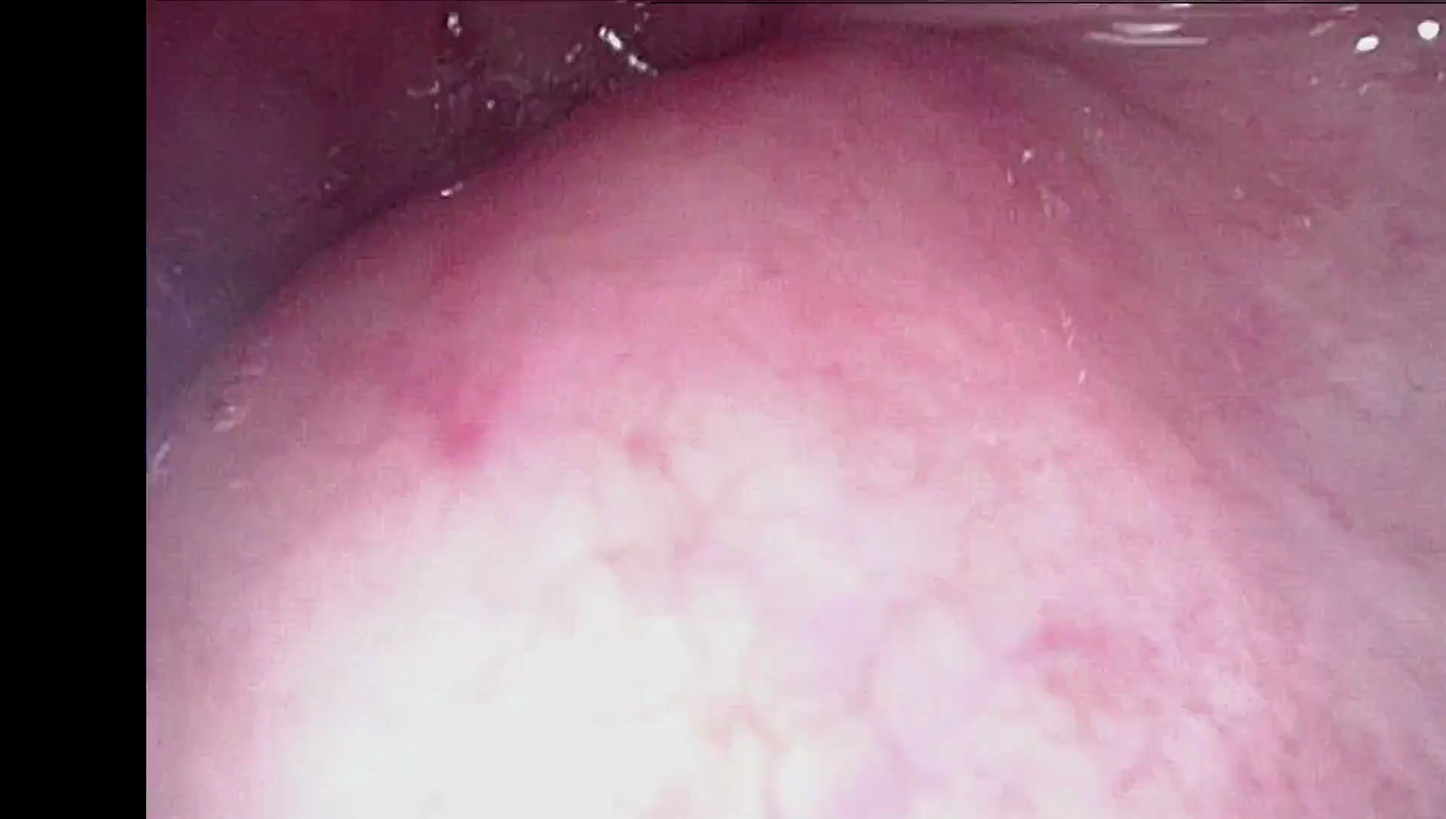close_wall: (247, 349, 1355, 819)
next: (221, 111, 486, 331)
